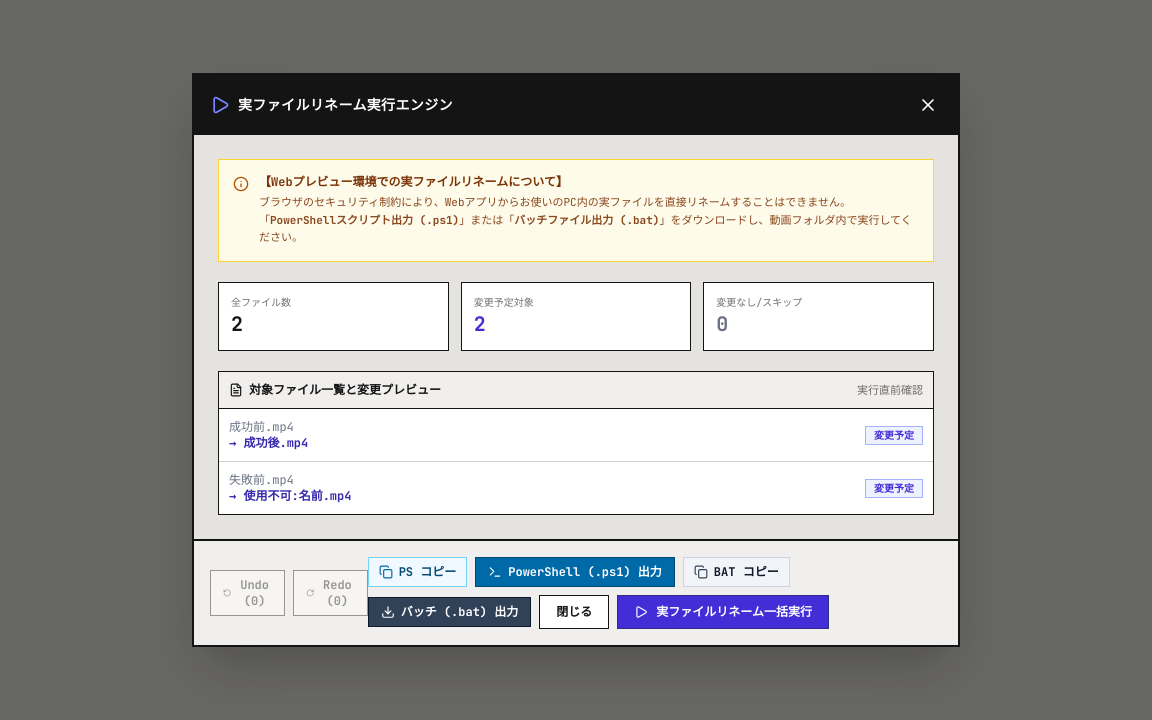
Test: RenameExecutionModal Component Suite › 部分成功をUndoすると成功したファイルだけを元へ戻す
Click the button "実ファイルリネーム一括実行": (723, 612) [617,595,829,629]
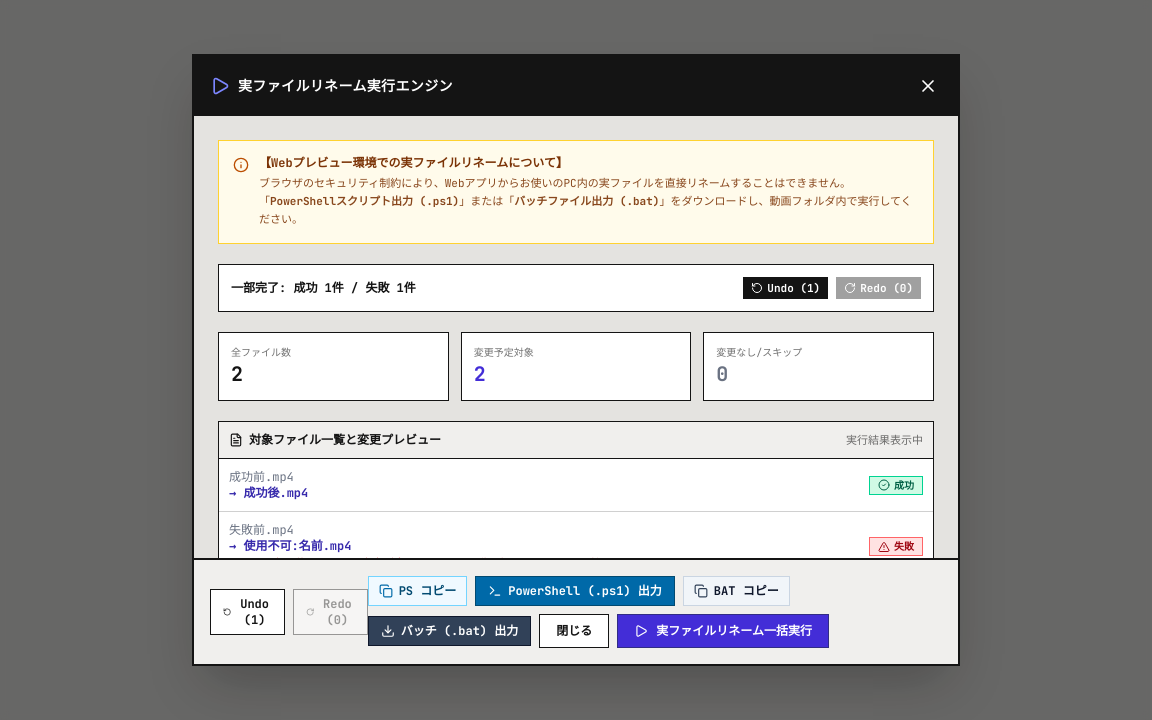
Click the button "Undo (1)" in the row of "一部完了: 成功 1件 / 失敗 1件": (786, 288) [743,277,828,299]
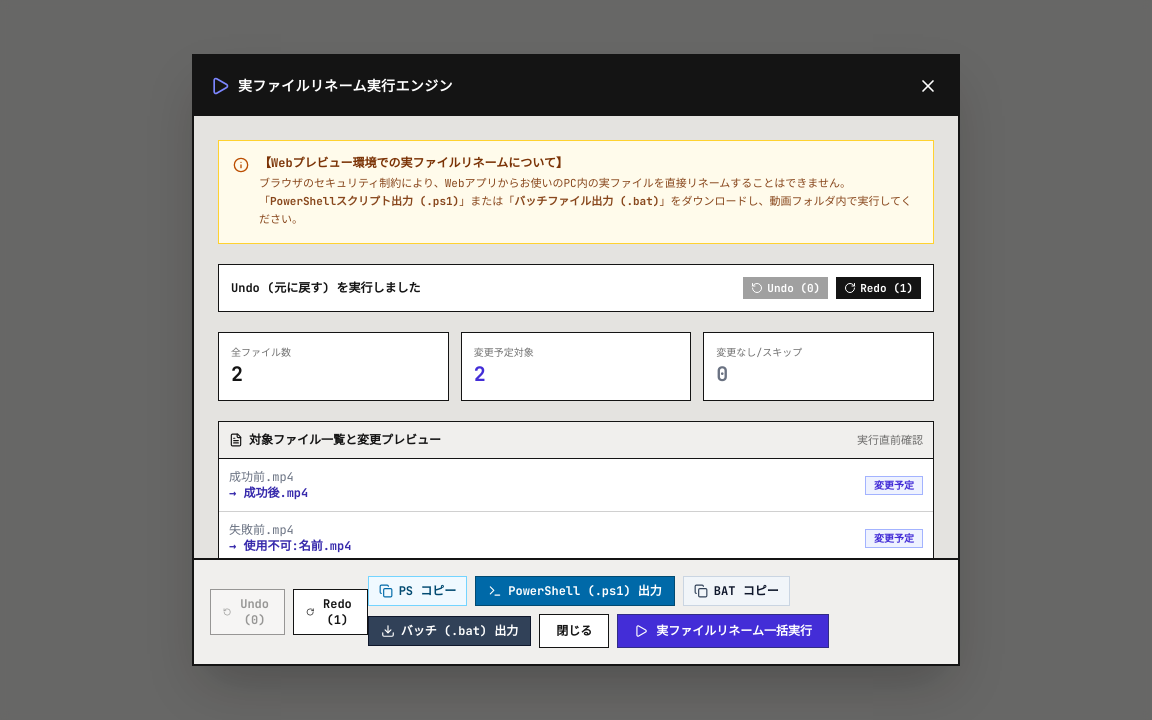
Check: the text "Undo (元に戻す) を実行しました" is shown, box [231,280,421,296]
